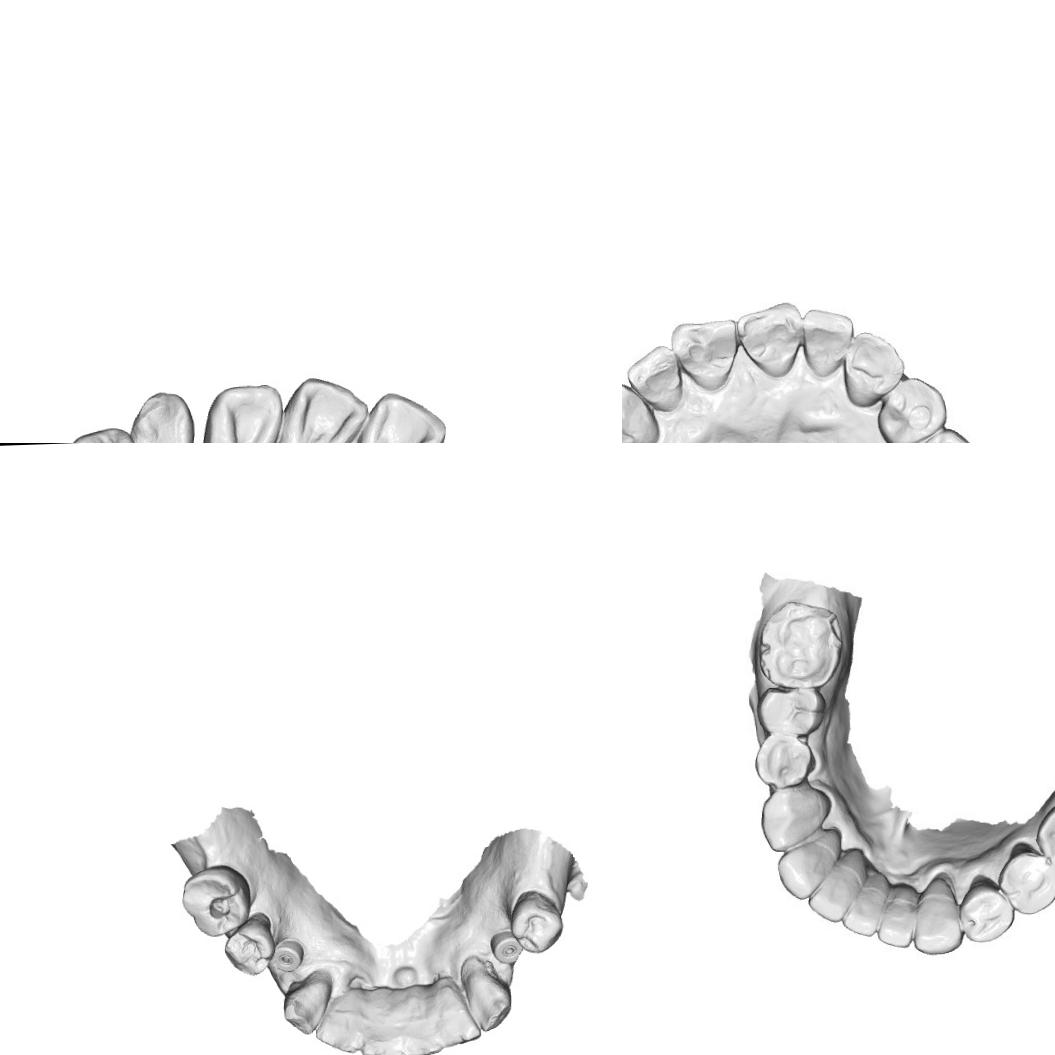canine: (756, 780, 836, 854), (844, 333, 903, 408), (127, 387, 195, 443), (910, 883, 962, 956), (462, 966, 516, 1034), (280, 978, 331, 1036), (622, 380, 662, 443)
implant: (487, 928, 526, 966), (271, 940, 306, 973)
incisor: (276, 373, 375, 443), (348, 389, 452, 443), (197, 380, 285, 443), (774, 830, 840, 900), (674, 319, 737, 386), (739, 302, 798, 373), (805, 858, 866, 922), (312, 986, 366, 1055), (839, 864, 888, 939), (873, 872, 920, 950), (431, 982, 482, 1050), (801, 306, 850, 375), (356, 991, 407, 1055), (628, 346, 681, 407), (399, 990, 445, 1055)
molar: (751, 598, 850, 692), (179, 863, 253, 940), (1031, 786, 1055, 883)
premolar: (875, 374, 950, 443), (995, 844, 1055, 921), (757, 684, 827, 738), (957, 878, 1013, 944), (752, 733, 819, 788), (506, 894, 566, 955), (222, 917, 274, 977), (57, 423, 149, 443), (901, 425, 980, 443)
